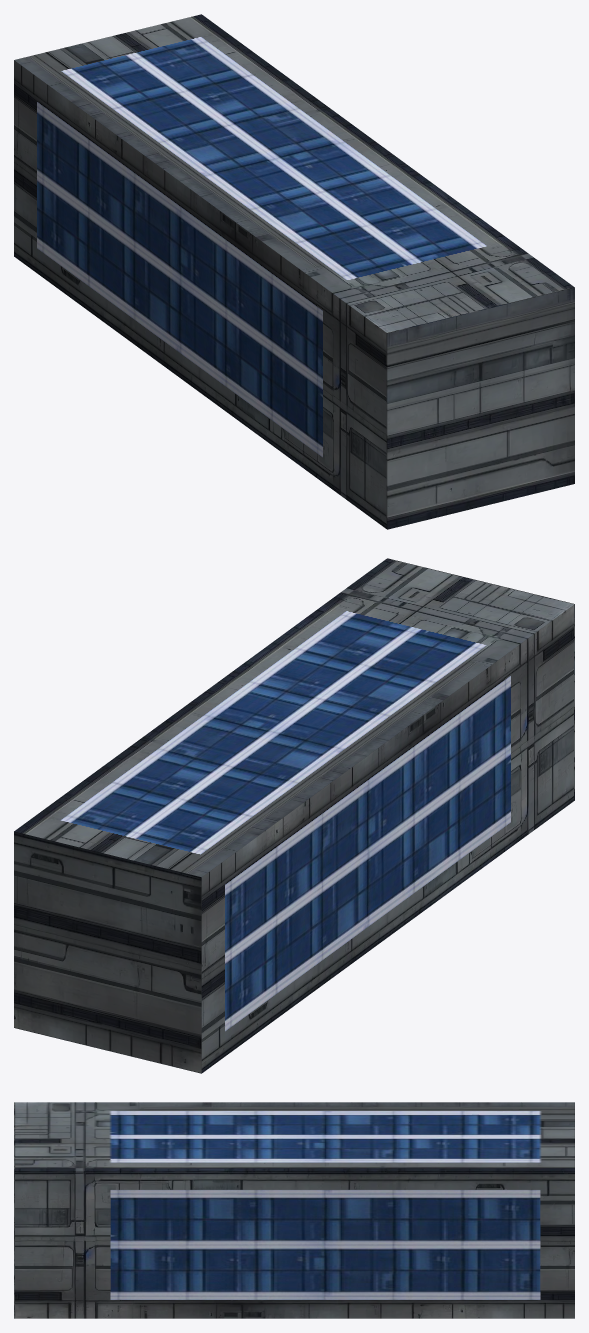
Rendered from Building_A.fbx.
3 views of the same model, one above another, from view 1: azimuth 30°, elevation 25°; view 2: azimuth 150°, elevation 25°; view 3: azimuth 270°, elevation 25° (orthographic). The views are drawn at different scales.
Parts seen in each view (by area): view 1: Tower A; view 2: Tower A; view 3: Tower A.
Boxes of the visible parts, x1=… form: Tower A: x1=14, y1=14, x2=574, y2=529; Tower A: x1=14, y1=558, x2=574, y2=1073; Tower A: x1=14, y1=1102, x2=574, y2=1318.
Size of the model in its own units: 580 by 580 by 1998.
